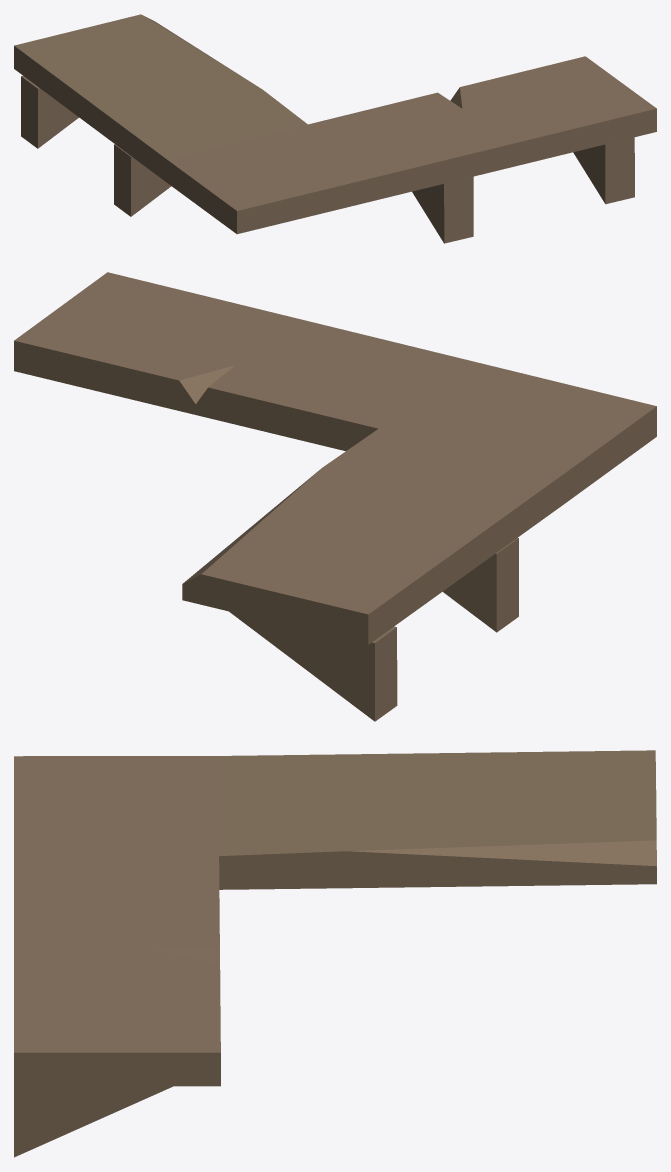
Rendered from EA03_Prop_Shelf_01c.glb.
3 renders of one model, top to bottom at view 1: azimuth 30°, elevation 25°; view 2: azimuth 150°, elevation 25°; view 3: azimuth 270°, elevation 25°, orthographic. The views are drawn at different scales.
Visible parts, largest first — view 1: EA03_Prop_Shelf_01c; view 2: EA03_Prop_Shelf_01c; view 3: EA03_Prop_Shelf_01c.
Part boxes in pixels (x1,y1,x2,y2): EA03_Prop_Shelf_01c: (14,14,656,243); EA03_Prop_Shelf_01c: (14,272,656,721); EA03_Prop_Shelf_01c: (14,750,656,1157).
Size of the model in its own units: 1.18 by 0.2323 by 1.08.
Materials: 1 (1 with a texture image).
